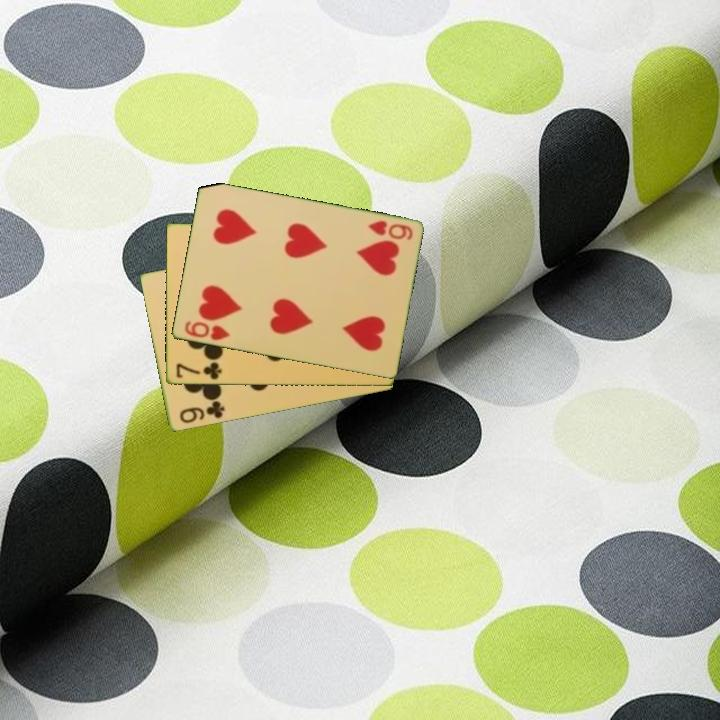6h: (364, 217, 415, 243), (181, 318, 233, 343)
7c: (172, 359, 224, 383)
9c: (176, 397, 228, 427)
